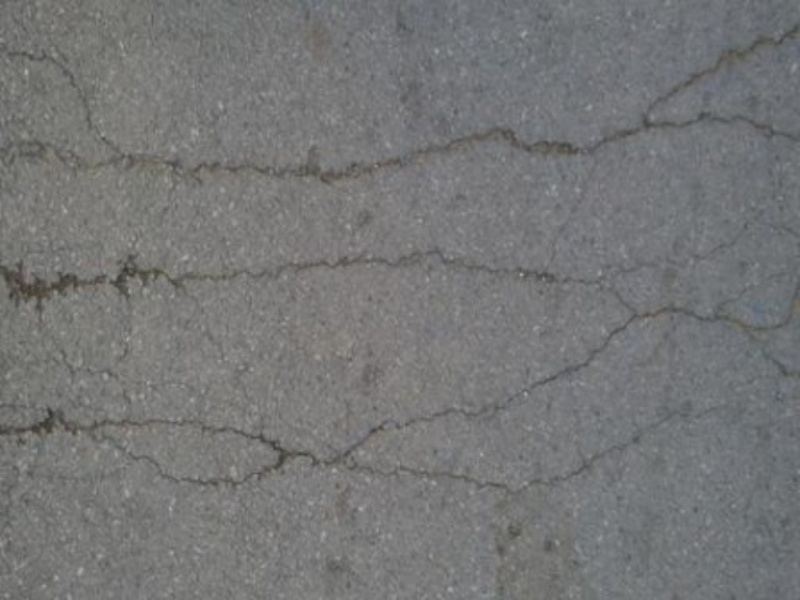crack: (18, 294, 793, 491), (9, 29, 796, 184), (4, 239, 682, 328), (628, 25, 796, 143), (1, 131, 194, 203)
